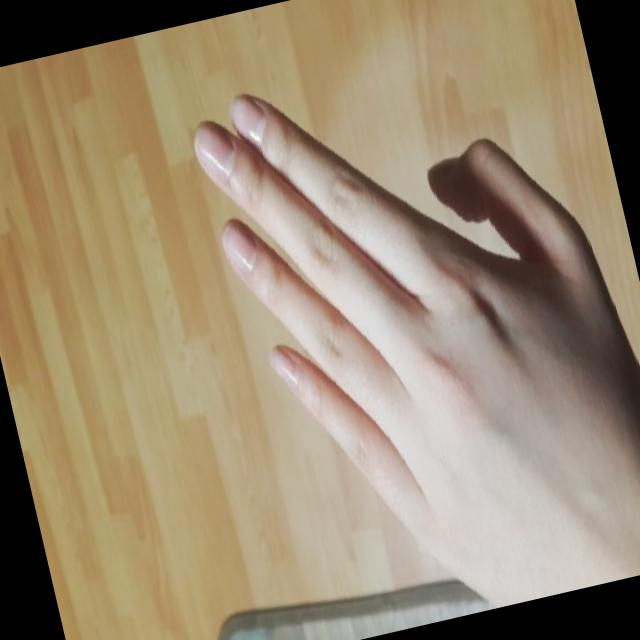Nail: (194, 120, 235, 182), (222, 218, 257, 272), (230, 93, 265, 144), (270, 345, 298, 388)
